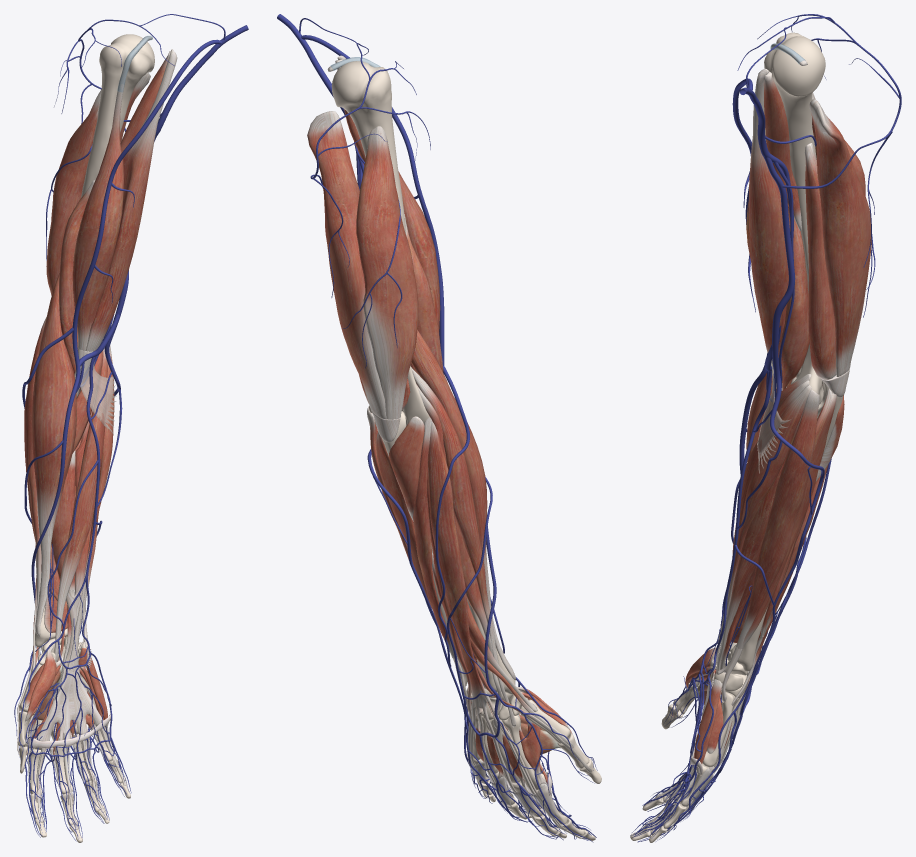
File: arms.glb
3 renders of one model, left to right at view 1: azimuth 30°, elevation 25°; view 2: azimuth 150°, elevation 25°; view 3: azimuth 270°, elevation 25°, orthographic. The views are drawn at different scales.
Visible parts, largest first — view 1: Brachioradialis muscle.r, Long head of biceps brachii.r, Short head of biceps brachii.r, Humerus.r, Flexor carpi radialis.r, Lateral head of triceps brachii.r, Superficial veins of upper limb.r, Arm superficial vein-Cephalic vein.r, Flexor digitorum superficialis humero-ulnar head.r, Brachialis muscle.r, Aponeurosis palmaris.r, Palmaris longus muscle.r (+18 smaller); view 2: Lateral head of triceps brachii.r, Long head of triceps brachii.r, Extensor digitorum.r, Humerus.r, Superficial veins of upper limb.r, Extensor carpi radialis longus.r, Brachioradialis muscle.r, Humeral head of extensor carpi ulnaris.r, Long head of biceps brachii.r, Arm superficial vein-Cephalic vein.r, Anconeus muscle.r, Brachialis muscle.r (+14 smaller); view 3: Long head of triceps brachii.r, Short head of biceps brachii.r, Humerus.r, Humeral head of flexor carpi ulnaris.r, Medial head of triceps brachii.r, Superficial veins of upper limb.r, Palmaris longus muscle.r, Brachialis muscle.r, Arm superficial vein-Basilic vein.r, Flexor digitorum superficialis humero-ulnar head.r, Coracobrachialis muscle.r, Ulnar head of flexor carpi ulnaris.r (+16 smaller).
Boxes of the visible parts, bbox=[...] form: Brachioradialis muscle.r: bbox=[32, 273, 76, 636]; Long head of biceps brachii.r: bbox=[72, 36, 152, 350]; Short head of biceps brachii.r: bbox=[85, 49, 177, 351]; Humerus.r: bbox=[81, 34, 154, 197]; Flexor carpi radialis.r: bbox=[54, 348, 107, 672]; Lateral head of triceps brachii.r: bbox=[46, 89, 101, 295]; Superficial veins of upper limb.r: bbox=[22, 14, 225, 627]; Arm superficial vein-Cephalic vein.r: bbox=[31, 39, 221, 602]; Flexor digitorum superficialis humero-ulnar head.r: bbox=[36, 405, 117, 804]; Brachialis muscle.r: bbox=[59, 180, 95, 396]; Aponeurosis palmaris.r: bbox=[35, 669, 103, 741]; Palmaris longus muscle.r: bbox=[67, 345, 114, 671]; Lateral head of triceps brachii.r: bbox=[356, 126, 418, 419]; Long head of triceps brachii.r: bbox=[307, 111, 386, 419]; Extensor digitorum.r: bbox=[428, 419, 567, 829]; Humerus.r: bbox=[331, 61, 429, 426]; Superficial veins of upper limb.r: bbox=[299, 18, 504, 685]; Extensor carpi radialis longus.r: bbox=[411, 367, 516, 727]; Brachioradialis muscle.r: bbox=[411, 330, 515, 680]; Humeral head of extensor carpi ulnaris.r: bbox=[413, 417, 457, 658]; Long head of biceps brachii.r: bbox=[327, 57, 440, 331]; Arm superficial vein-Cephalic vein.r: bbox=[301, 35, 496, 681]; Anconeus muscle.r: bbox=[389, 416, 424, 521]; Brachialis muscle.r: bbox=[404, 214, 443, 386]; Long head of triceps brachii.r: bbox=[809, 99, 871, 376]; Short head of biceps brachii.r: bbox=[749, 68, 790, 369]; Humerus.r: bbox=[764, 32, 825, 404]; Humeral head of flexor carpi ulnaris.r: bbox=[736, 390, 819, 648]; Medial head of triceps brachii.r: bbox=[804, 143, 836, 380]; Superficial veins of upper limb.r: bbox=[720, 14, 901, 661]; Palmaris longus muscle.r: bbox=[709, 385, 811, 685]; Brachialis muscle.r: bbox=[778, 206, 809, 389]; Arm superficial vein-Basilic vein.r: bbox=[755, 199, 824, 666]; Flexor digitorum superficialis humero-ulnar head.r: bbox=[667, 411, 803, 819]; Coracobrachialis muscle.r: bbox=[763, 71, 801, 230]; Ulnar head of flexor carpi ulnaris.r: bbox=[738, 388, 836, 649].
Bounding box in the file's own units: 0.2653 × 0.7233 × 0.1999.
Materials: 39 (5 with a texture image).
